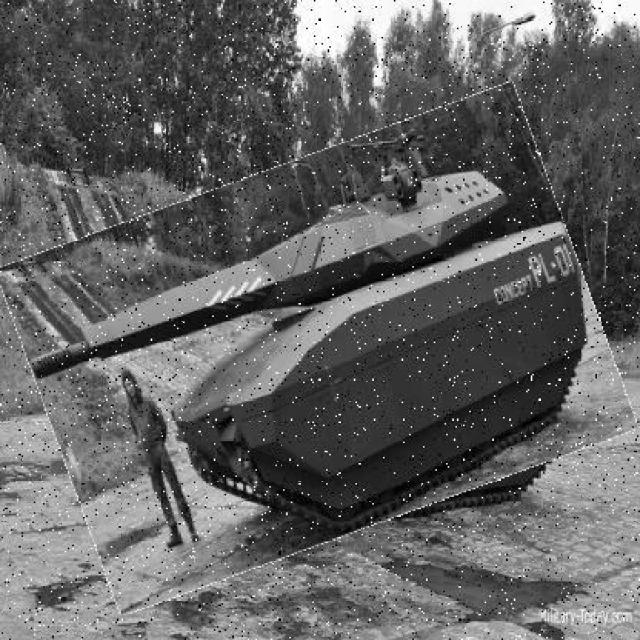Person: (98, 301, 161, 490)
Tank: (20, 124, 617, 576)
